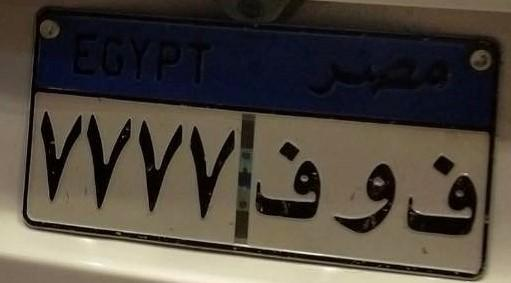7: (137, 121, 182, 224), (38, 104, 81, 207), (85, 113, 131, 209), (192, 120, 233, 217)
faa: (399, 149, 483, 247), (256, 136, 321, 231)
waw: (333, 149, 396, 246)
